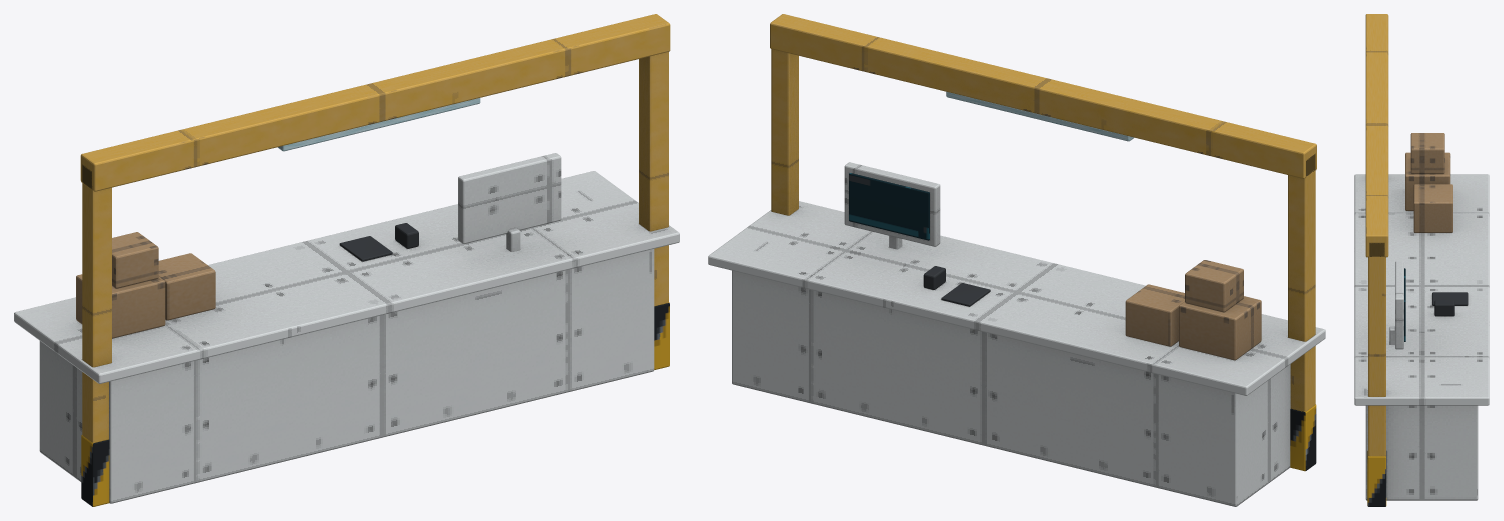
Rendered from base_logistics_counter.glb.
The picture shows the model from 3 angles, left to right: view 1: azimuth 30°, elevation 25°; view 2: azimuth 150°, elevation 25°; view 3: azimuth 270°, elevation 25°; orthographic projection. The views are drawn at different scales.
Parts seen in each view (by area): view 1: base_logistics_counter; view 2: base_logistics_counter; view 3: base_logistics_counter.
Part boxes in pixels (x1,y1,x2,y2): base_logistics_counter: (14, 14, 679, 506); base_logistics_counter: (708, 14, 1325, 506); base_logistics_counter: (1354, 14, 1489, 506).
Bounding box in the file's own units: 4.7 × 2.66 × 1.2.
Materials: 7 (7 with a texture image).
